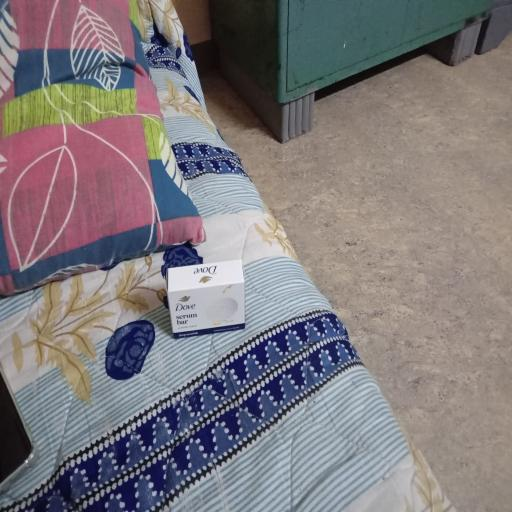Dove`1: (159, 257, 250, 345)
